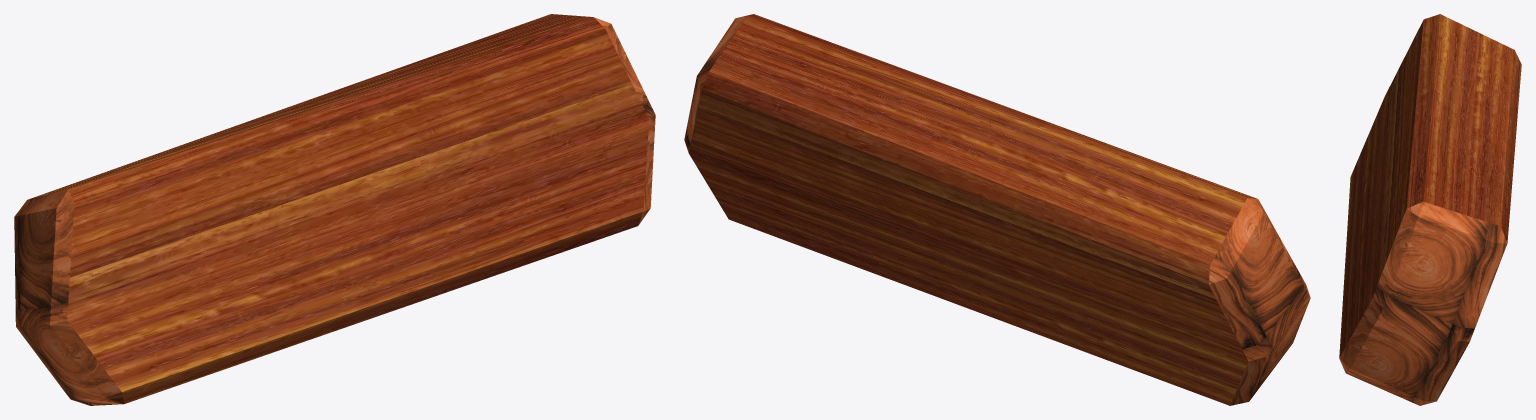
File: quanyi_J_D_yiquan0102_sai.FBX
3 views of the same model, side by side, from view 1: azimuth 30°, elevation 25°; view 2: azimuth 150°, elevation 25°; view 3: azimuth 270°, elevation 25° (orthographic). The views are drawn at different scales.
Visible parts, largest first — view 1: quanyi_J_D_yiquan0102_sai; view 2: quanyi_J_D_yiquan0102_sai; view 3: quanyi_J_D_yiquan0102_sai.
Boxes of the visible parts, bbox=[...] form: quanyi_J_D_yiquan0102_sai: bbox=[14, 14, 655, 405]; quanyi_J_D_yiquan0102_sai: bbox=[684, 14, 1310, 405]; quanyi_J_D_yiquan0102_sai: bbox=[1339, 14, 1521, 405].
Size of the model in its own units: 3.08 by 1.32 by 0.8523.
Materials: 2 (2 with a texture image).
